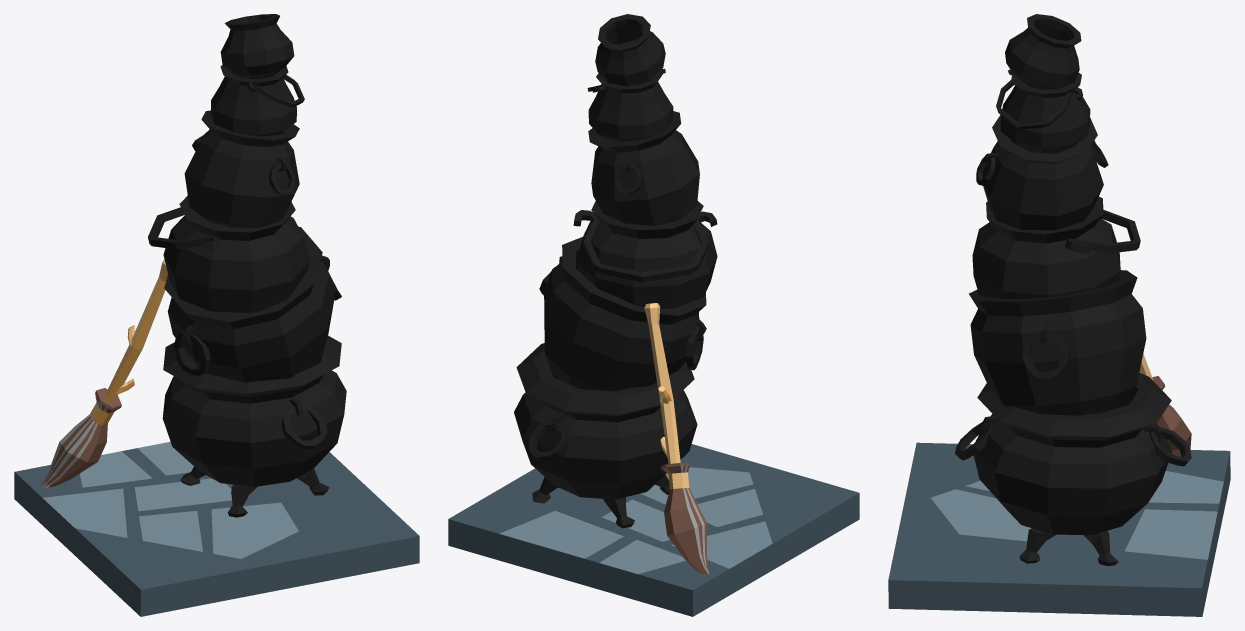
The model's file is Stacked Cauldrons.glb.
The picture shows the model from 3 angles, left to right: view 1: azimuth 30°, elevation 25°; view 2: azimuth 150°, elevation 25°; view 3: azimuth 270°, elevation 25°; orthographic projection. The views are drawn at different scales.
Visible parts, largest first — view 1: group1869945625; view 2: group1869945625; view 3: group1869945625.
Boxes of the visible parts, <box> form: group1869945625: <box>14,14,419,616</box>; group1869945625: <box>448,14,859,616</box>; group1869945625: <box>888,14,1230,616</box>.
Bounding box in the file's own units: 0.5216 × 0.8923 × 0.5104.
